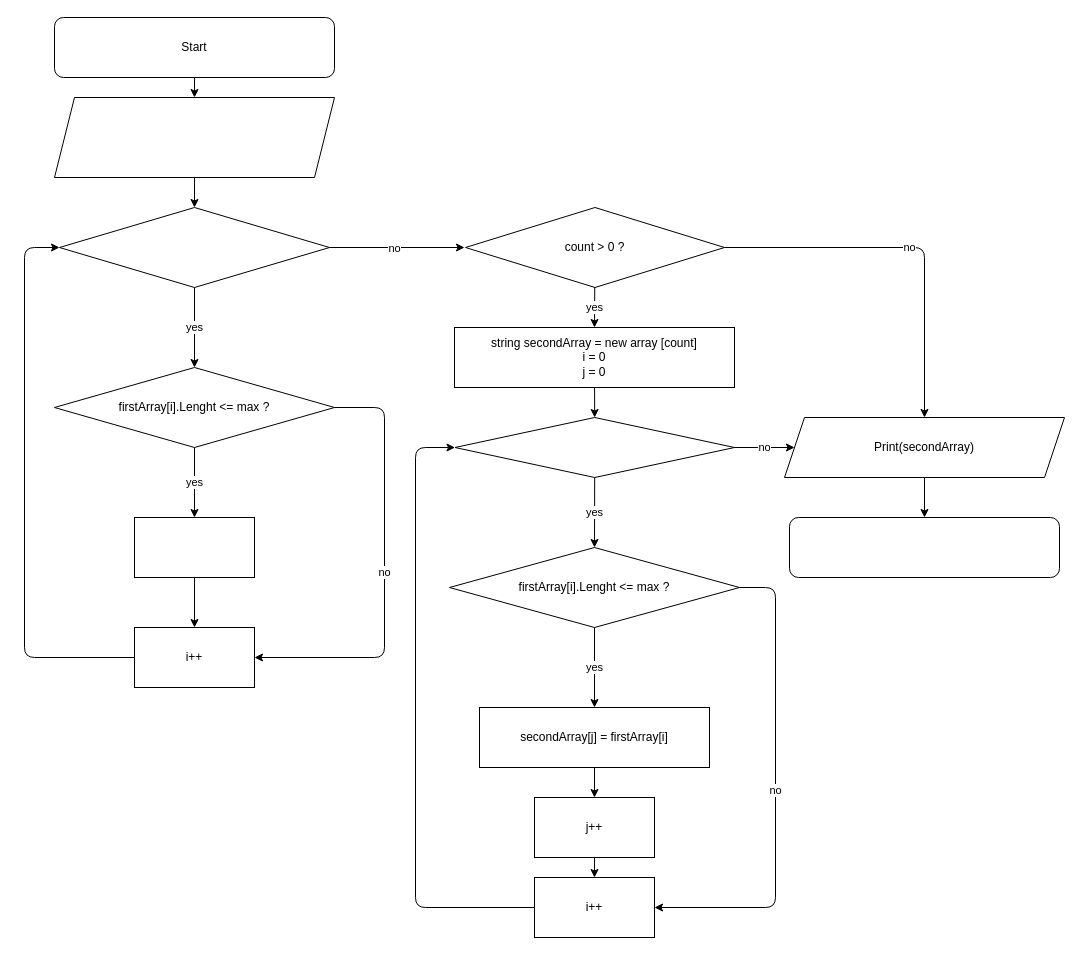
The diagram is 1082 pixels wide and 955 high, and some of its shapes have lost their labels. Here are the shapes that lost their labels. From the top down, the centre of each, then its label:
At pixel 194 137: "firstArray[] i = 0 count = 0 max = 3".
At pixel 194 247: "i < firstArray.Lenght".
At pixel 594 447: "i < startArray.Lenght".
At pixel 194 547: "count++".
At pixel 924 547: "Finish".
